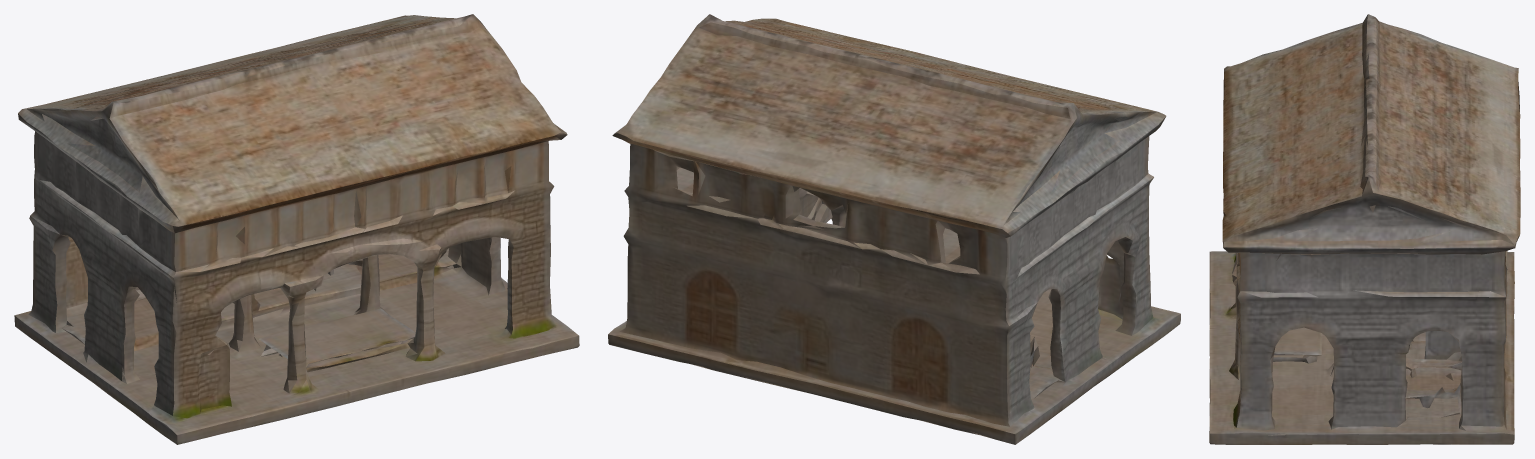
Rendered from barracks__roman-barracks.glb.
The picture shows the model from 3 angles, left to right: view 1: azimuth 30°, elevation 25°; view 2: azimuth 150°, elevation 25°; view 3: azimuth 270°, elevation 25°; orthographic projection. The views are drawn at different scales.
Visible parts, largest first — view 1: file1; view 2: file1; view 3: file1.
Part boxes in pixels (x1,y1,x2,y2): file1: (14, 14, 579, 444); file1: (608, 14, 1180, 444); file1: (1209, 14, 1520, 444).
Size of the model in its own units: 2 by 1.31 by 1.44.
1 material, 1 textured.
